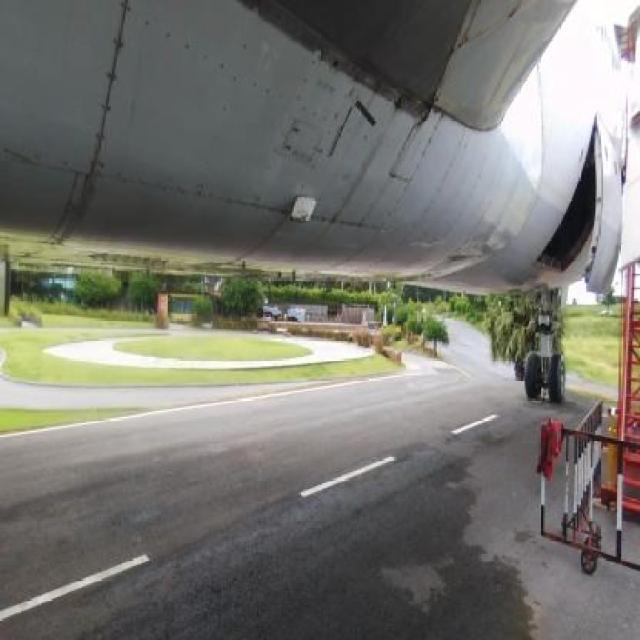Missing-Rivet: (56, 168, 292, 225), (142, 15, 248, 88), (92, 1, 136, 168), (251, 78, 349, 131), (257, 1, 318, 54), (202, 96, 240, 166), (310, 208, 382, 237), (355, 128, 411, 160), (331, 162, 367, 202)
